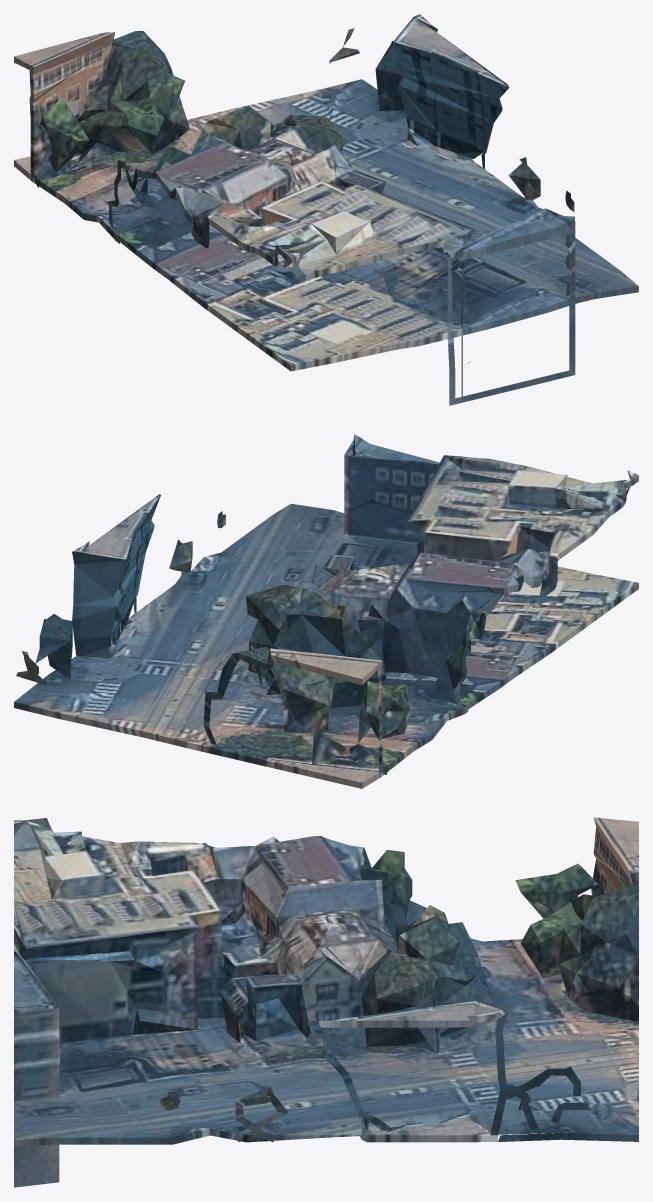
Rendered from chunk_4_-5.glb.
3 renders of one model, top to bottom at view 1: azimuth 30°, elevation 25°; view 2: azimuth 150°, elevation 25°; view 3: azimuth 270°, elevation 25°, orthographic. The views are drawn at different scales.
Visible parts, largest first — view 1: hero-chunk; view 2: hero-chunk; view 3: hero-chunk.
Part boxes in pixels (x1=…): hero-chunk: x1=14, y1=14, x2=638, y2=405; hero-chunk: x1=14, y1=434, x2=638, y2=788; hero-chunk: x1=14, y1=817, x2=638, y2=1187.
Bounding box in the file's own units: 55.42 × 28.82 × 76.32.
Materials: 2 (2 with a texture image).
